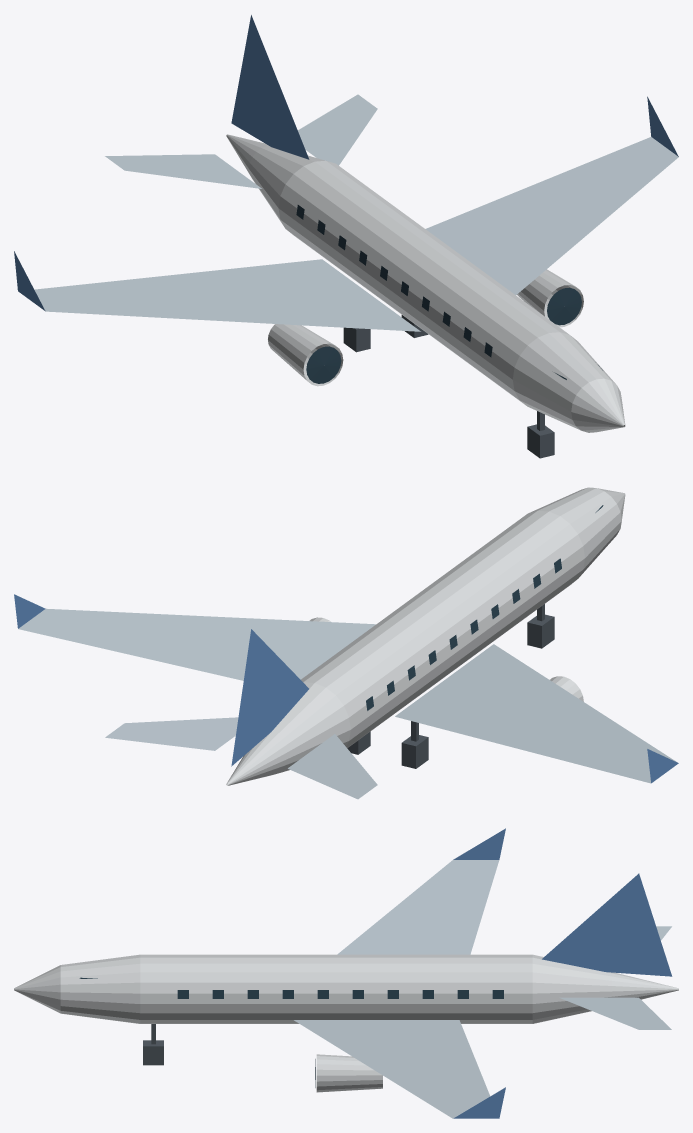
File: a320-SAS.gltf
The picture shows the model from 3 angles, top to bottom: view 1: azimuth 30°, elevation 25°; view 2: azimuth 150°, elevation 25°; view 3: azimuth 270°, elevation 25°; orthographic projection. The views are drawn at different scales.
Parts seen in each view (by area): view 1: object 1, Gear; view 2: object 1, Gear; view 3: object 1, Gear.
Part boxes in pixels (left/top/right/bottom): object 1: left=14, top=15, right=678, bottom=432; Gear: left=343, top=315, right=554, bottom=458; object 1: left=14, top=487, right=678, bottom=799; Gear: left=347, top=604, right=554, bottom=768; object 1: left=14, top=828, right=678, bottom=1118; Gear: left=143, top=1024, right=163, bottom=1065.
Size of the model in its own units: 35 by 11.92 by 38.
